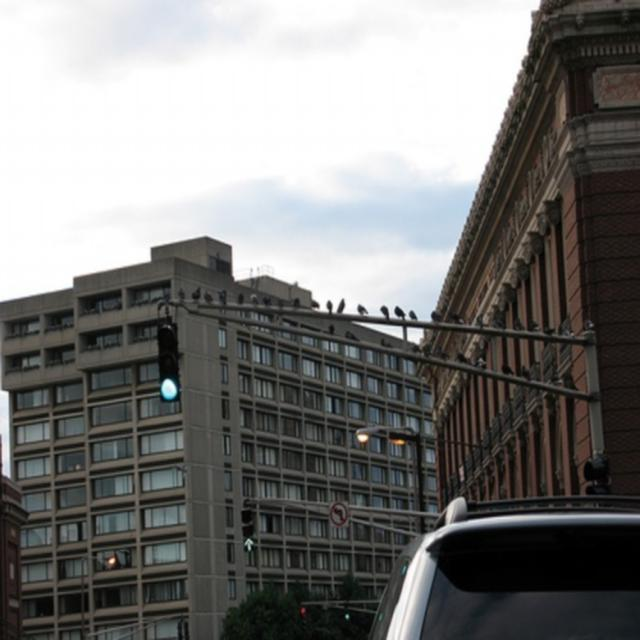car: (368, 492, 638, 630)
